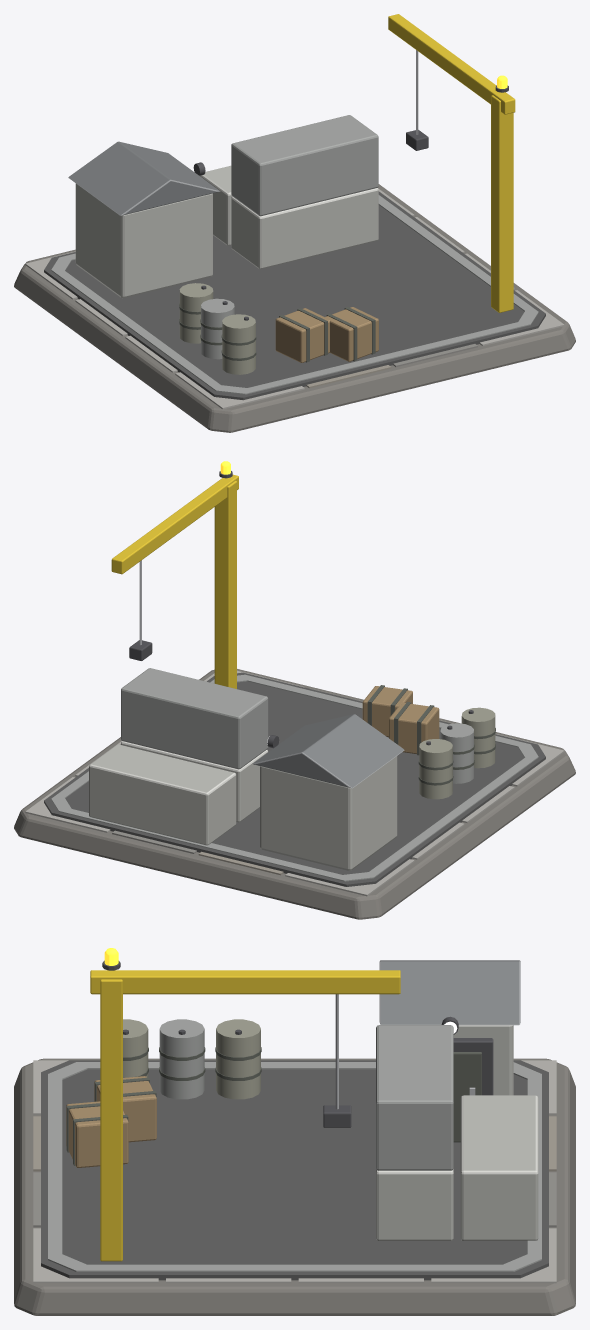
Rendered from supply_depot_neutral.glb.
The picture shows the model from 3 angles, top to bottom: view 1: azimuth 30°, elevation 25°; view 2: azimuth 150°, elevation 25°; view 3: azimuth 270°, elevation 25°; orthographic projection. The views are drawn at different scales.
Parts seen in each view (by area): view 1: Body; view 2: Body; view 3: Body.
Part boxes in pixels (x1,y1,x2,y2): Body: [14, 14, 575, 432]; Body: [14, 461, 575, 919]; Body: [14, 948, 575, 1315].
Size of the model in its own units: 3.98 by 2.65 by 3.98.
1 material, 1 textured.
